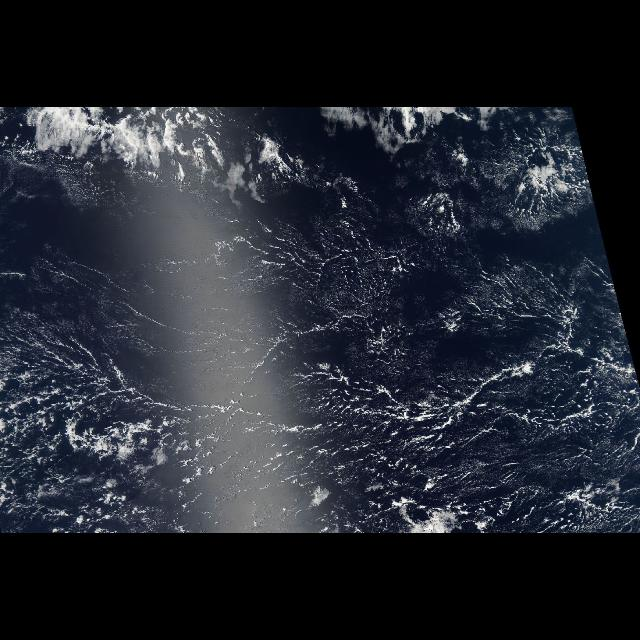Gravel: (1, 391, 210, 533)
Sugar: (1, 182, 640, 532)
